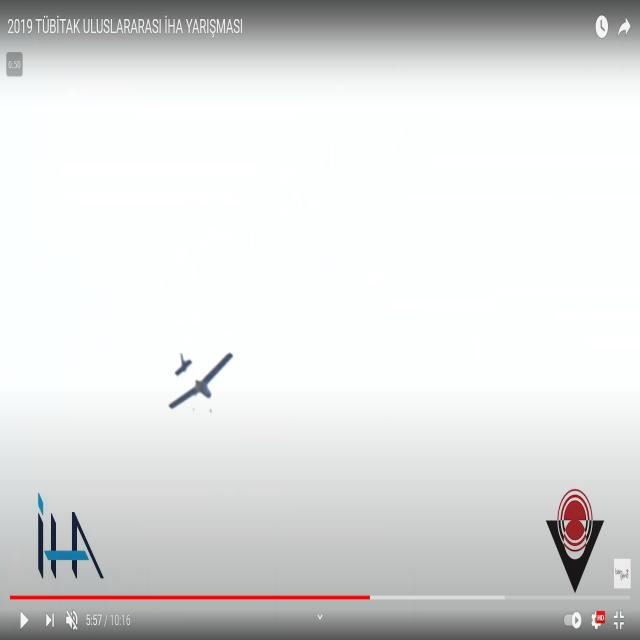iha: (190, 380, 194, 384)
